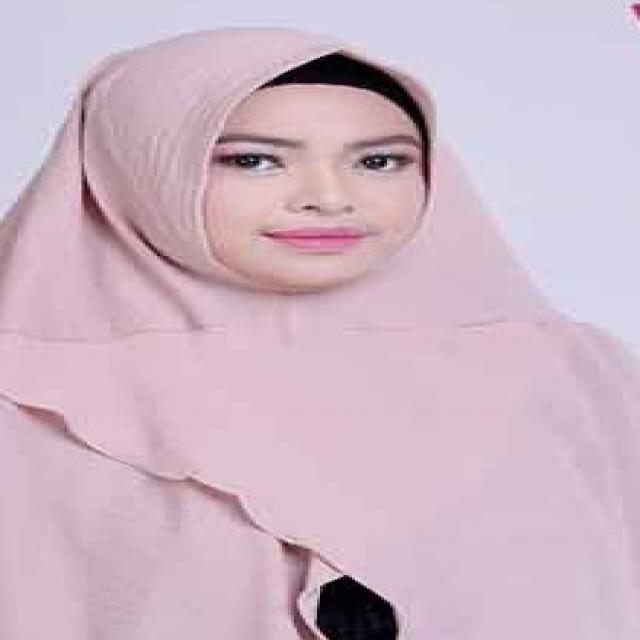head: (101, 23, 444, 299)
